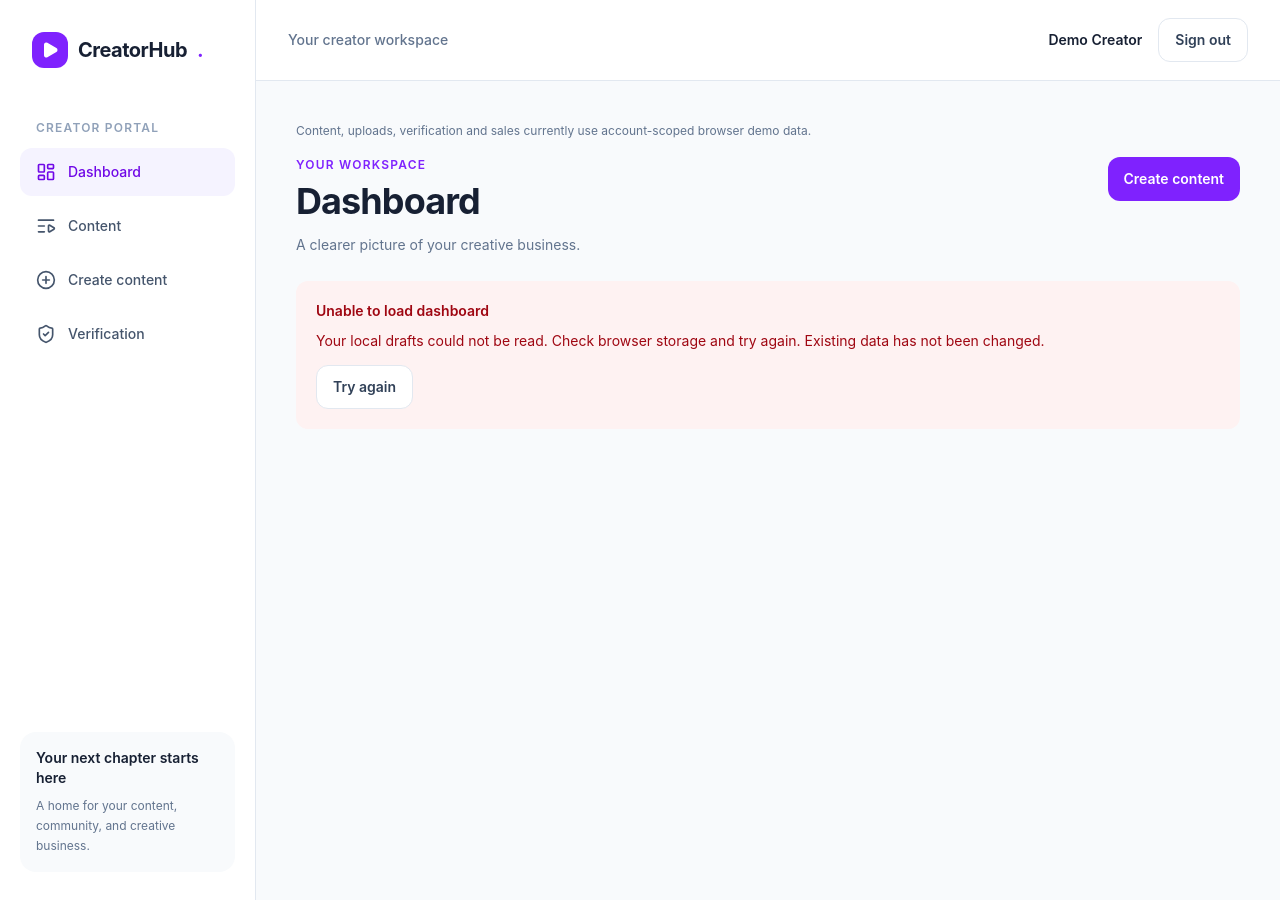
Test: dashboard overview › recovers from a storage error after retry
Check: the message shows "could not be read", box [316,332,1044,349]
Click the button "Try again": (365, 387) [316,365,413,409]
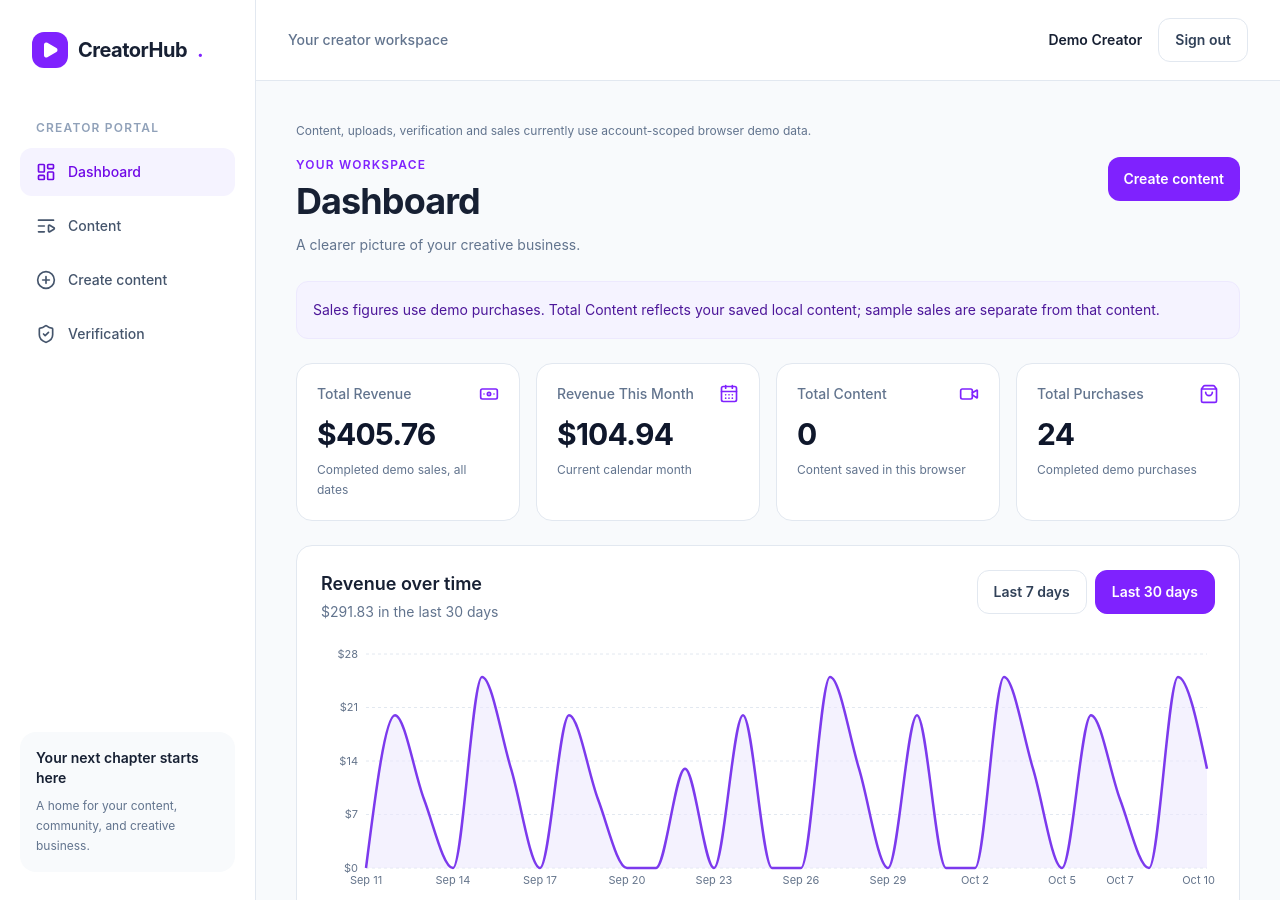
Check: the element named "Overview metrics" is shown, box [296,363,1240,521]
